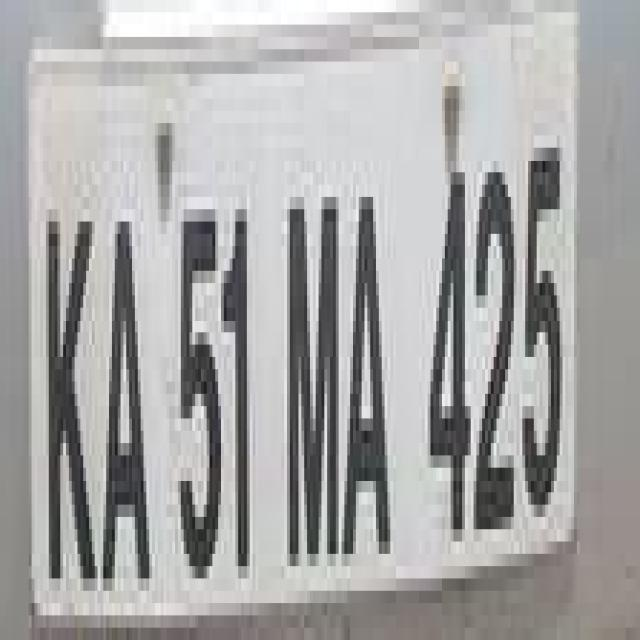license_plate: (8, 12, 600, 640)
